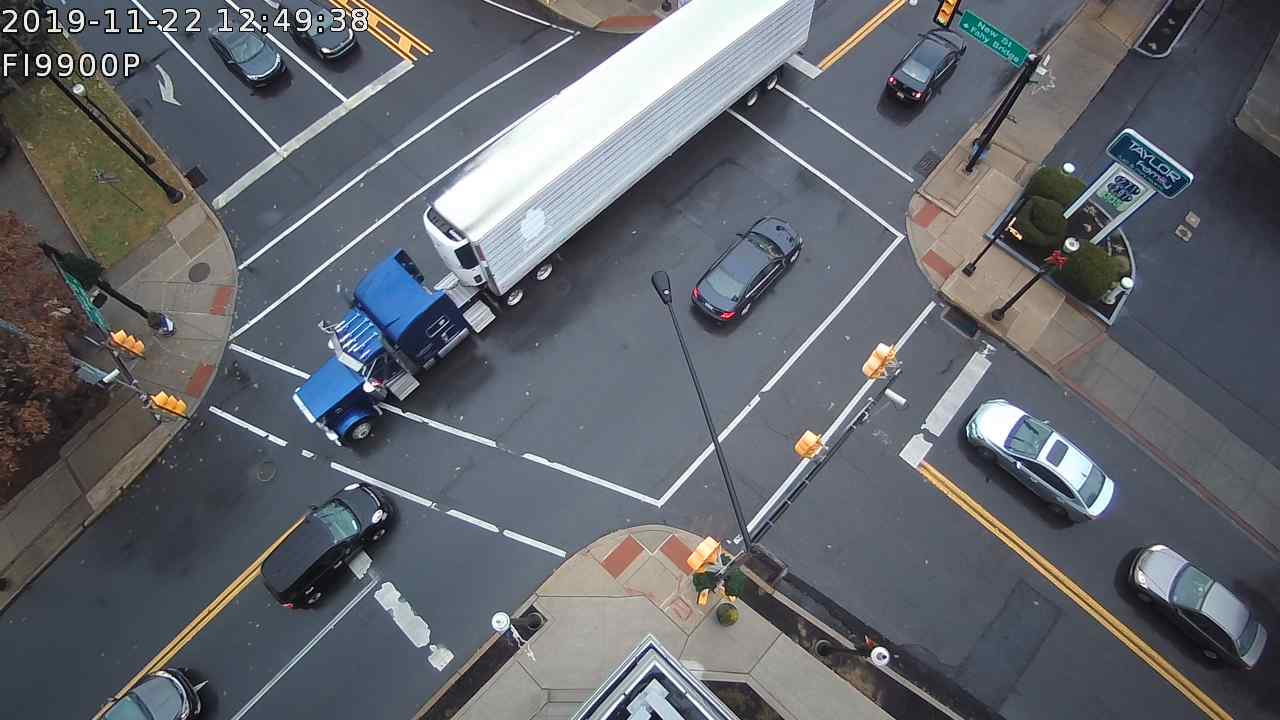car: (286, 1, 821, 458), (961, 394, 1120, 525), (1125, 539, 1268, 679), (247, 479, 398, 610), (682, 208, 809, 330), (194, 15, 305, 90), (80, 663, 212, 720), (880, 26, 973, 104), (281, 1, 375, 67)
